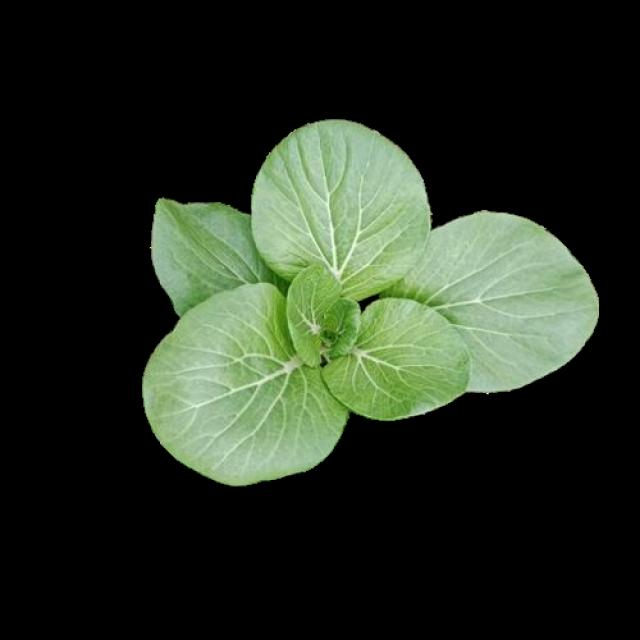healthy: (142, 119, 595, 484)
not-mature: (147, 114, 597, 482)
